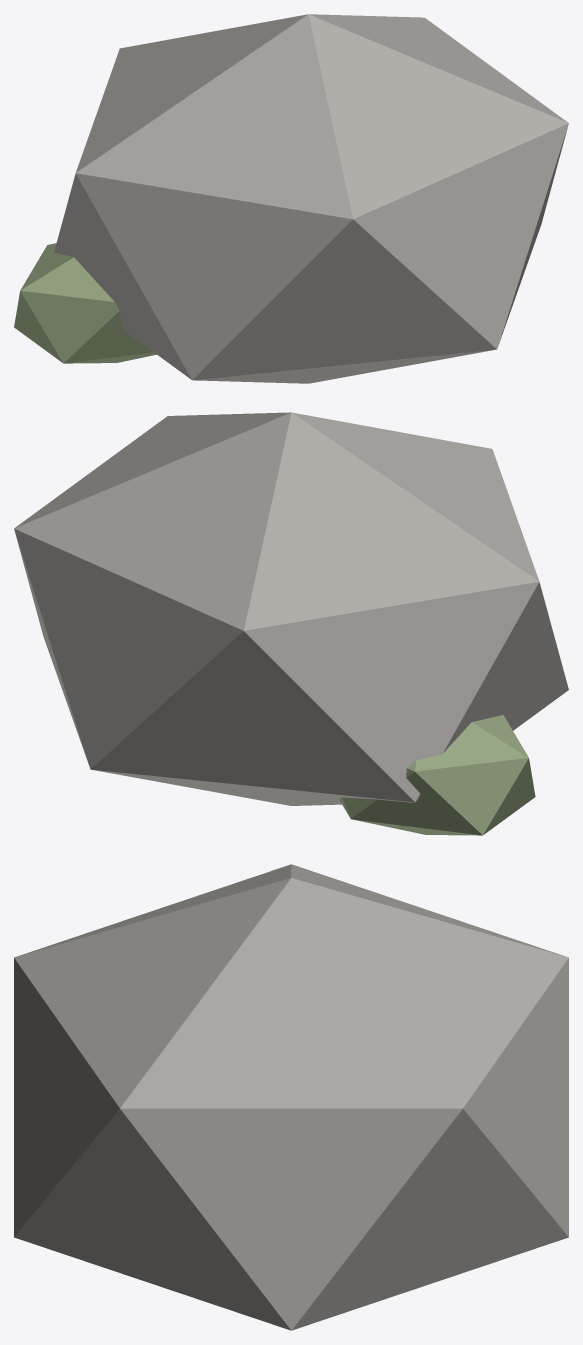
The model's file is rock.glb.
3 views of the same model, one above another, from view 1: azimuth 30°, elevation 25°; view 2: azimuth 150°, elevation 25°; view 3: azimuth 270°, elevation 25° (orthographic). The views are drawn at different scales.
Parts seen in each view (by area): view 1: Boulder, Chip; view 2: Boulder, Chip; view 3: Boulder.
Part boxes in pixels (x1,y1,x2,y2): Boulder: (54,14,568,383); Chip: (14,243,156,363); Boulder: (14,412,568,805); Chip: (339,715,535,835); Boulder: (14,864,568,1330).
Bounding box in the file's own units: 0.8632 × 0.624 × 0.7145.
